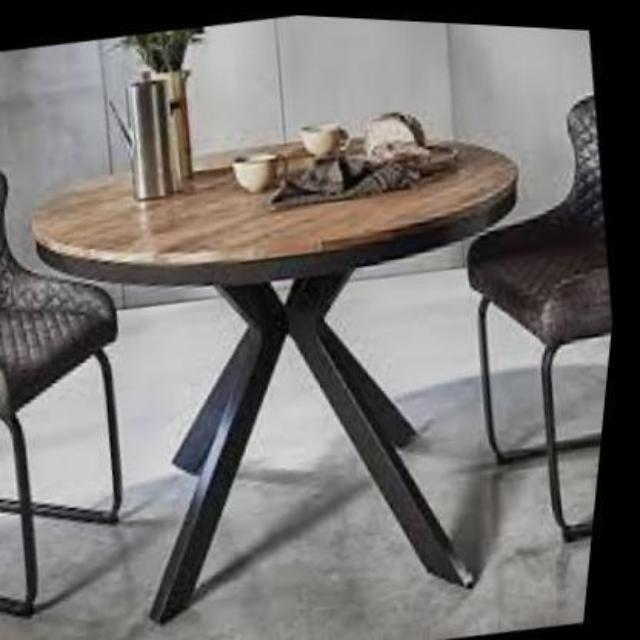glass: (234, 150, 287, 193)
table: (42, 127, 518, 615)
